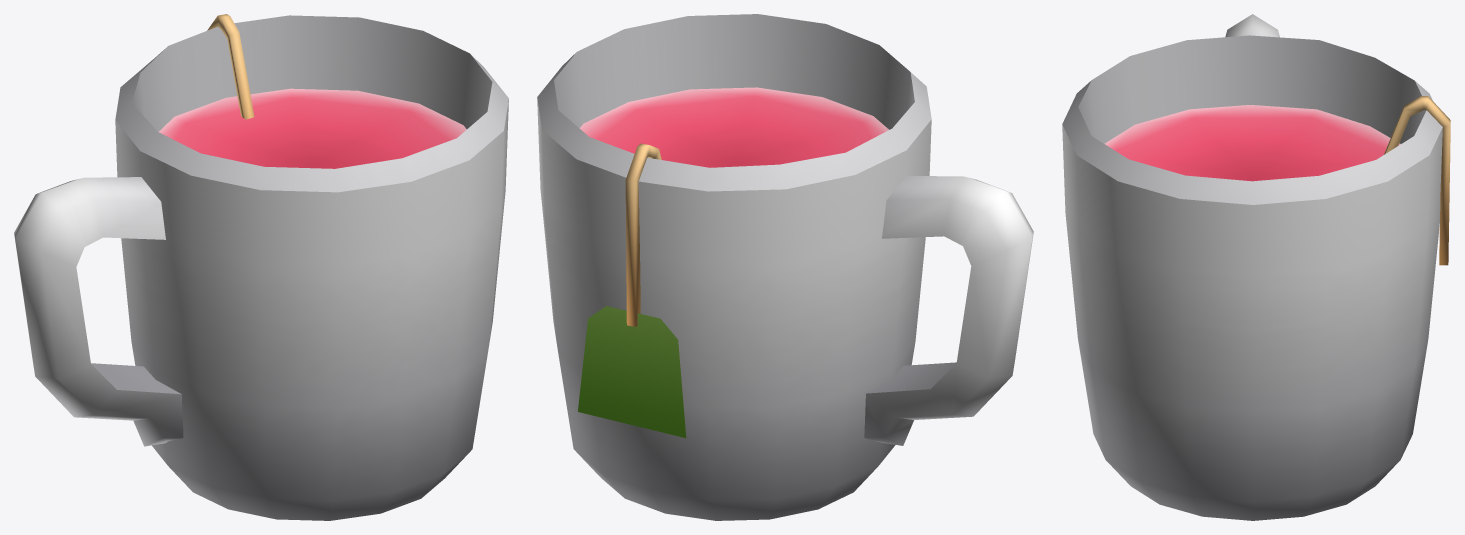
The model's file is m_Mug02_Tea07.fbx.
3 views of the same model, side by side, from view 1: azimuth 30°, elevation 25°; view 2: azimuth 150°, elevation 25°; view 3: azimuth 270°, elevation 25° (orthographic). The views are drawn at different scales.
Parts seen in each view (by area): view 1: m_Mug02_Tea07; view 2: m_Mug02_Tea07; view 3: m_Mug02_Tea07.
Boxes of the visible parts, x1,y1,x2,y2 form: m_Mug02_Tea07: [14, 14, 508, 520]; m_Mug02_Tea07: [537, 14, 1033, 520]; m_Mug02_Tea07: [1062, 14, 1450, 520].
Bounding box in the file's own units: 15.22 × 11.86 × 11.36.
